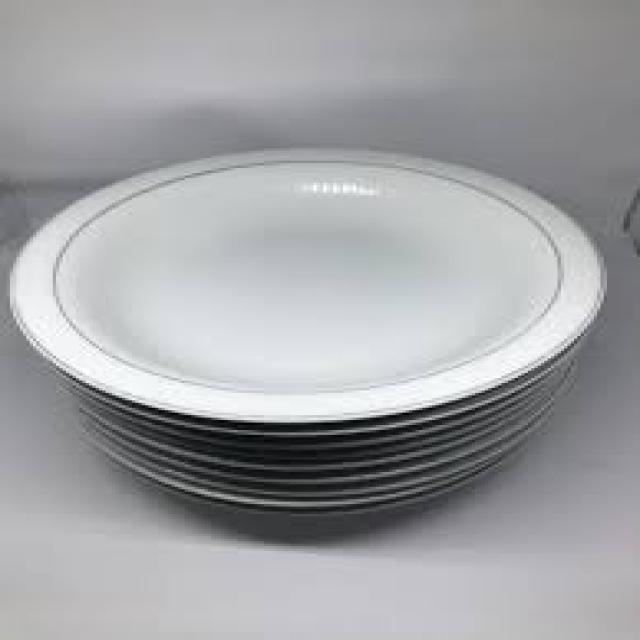Plate: (13, 134, 636, 438)
